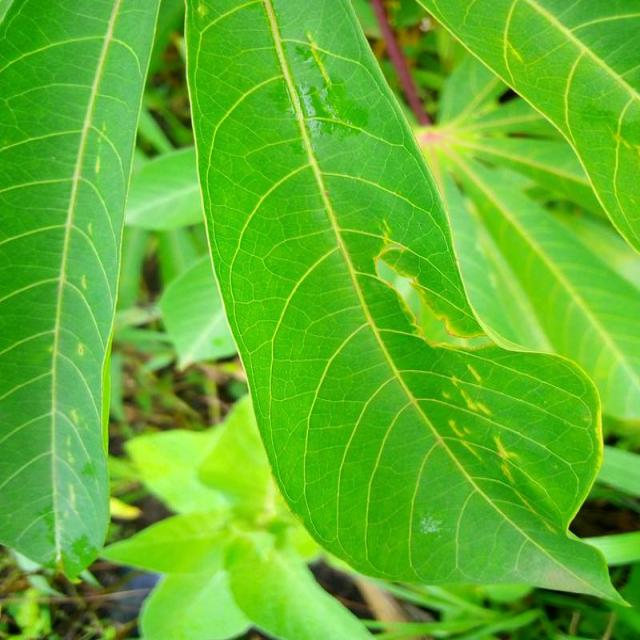cassava leaf: (181, 0, 631, 610), (0, 0, 161, 583), (414, 0, 640, 255)
